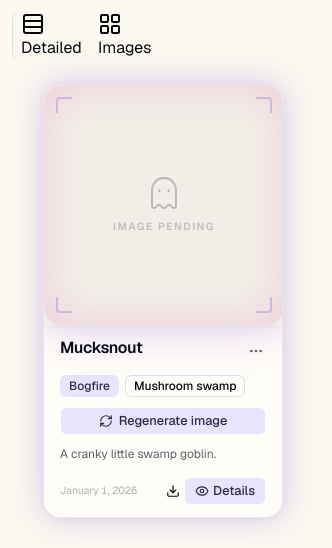
Scenario: GalleryGrid — view mode toggle › switches to image-only mode on toggle click — hides flavor text
expect the text "A cranky little swamp goblin." is shown: met, box [60,446,216,462]
What coordinates should you click on to do the following:
click the button with aria-label "image-only view"
I would click on:
 (125, 36)
Its box is [90,12,159,60].
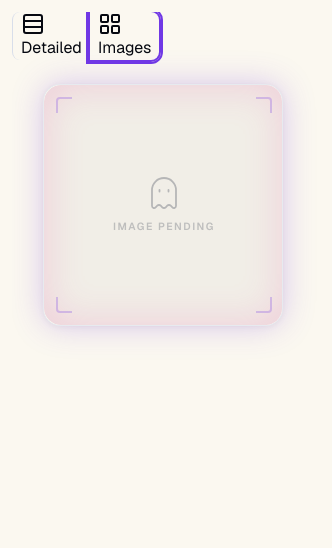
expect the text "A cranky little swamp goblin." is gone: met
